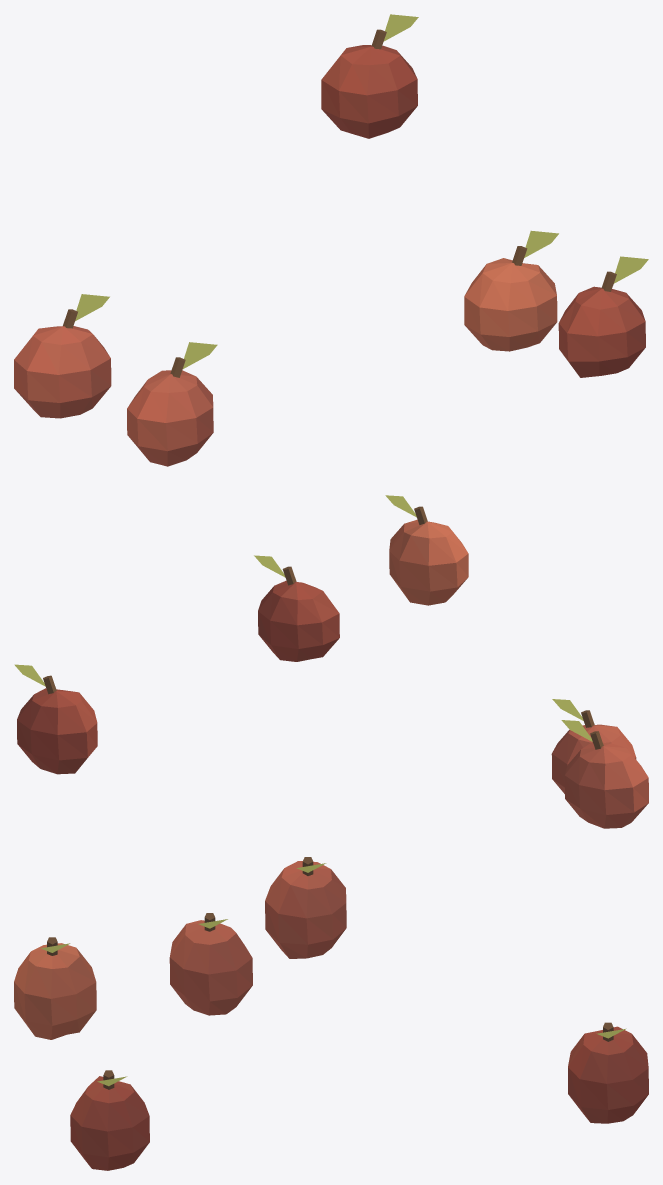
Rendered from apple_fruit.glb.
The picture shows the model from 3 angles, top to bottom: view 1: azimuth 30°, elevation 25°; view 2: azimuth 150°, elevation 25°; view 3: azimuth 270°, elevation 25°; orthographic projection. The views are drawn at different scales.
Visible parts, largest first — view 1: Reife Äpfel; view 2: Reife Äpfel; view 3: Reife Äpfel.
Boxes of the visible parts, x1,y1,x2,y2 form: Reife Äpfel: [14, 14, 648, 466]; Reife Äpfel: [14, 495, 648, 828]; Reife Äpfel: [14, 857, 648, 1170].
Bounding box in the file's own units: 2.14 × 0.785 × 2.14.
